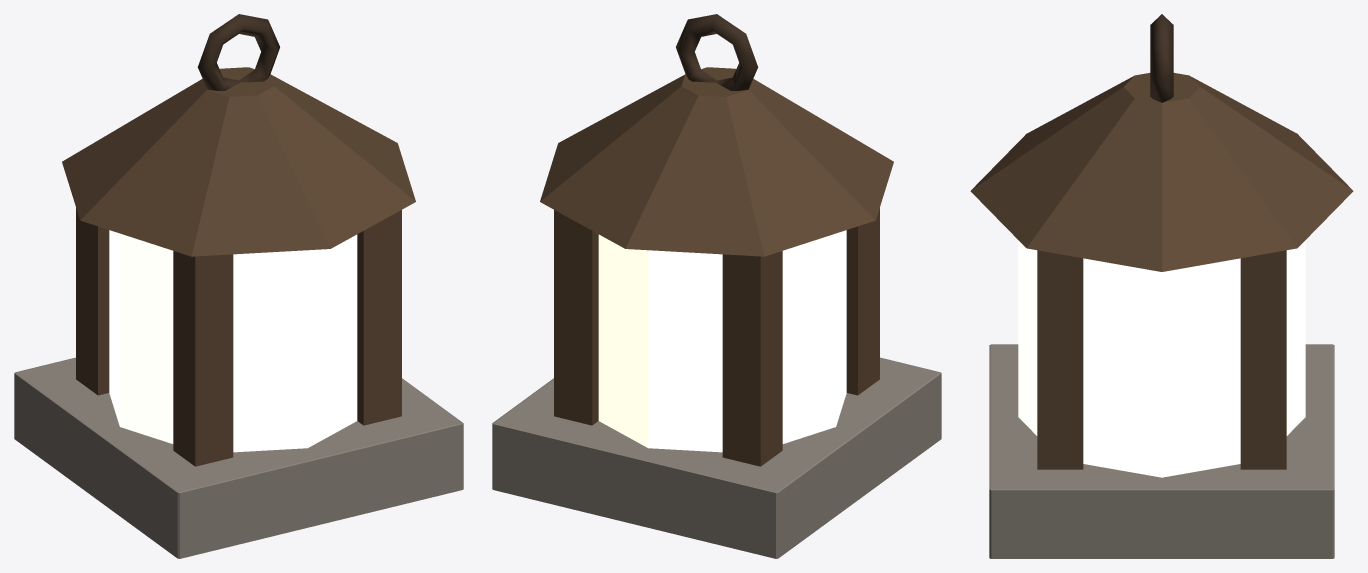
File: prop_candle.glb
3 renders of one model, left to right at view 1: azimuth 30°, elevation 25°; view 2: azimuth 150°, elevation 25°; view 3: azimuth 270°, elevation 25°, orthographic. The views are drawn at different scales.
Visible parts, largest first — view 1: prop_candle; view 2: prop_candle; view 3: prop_candle.
Boxes of the visible parts, x1,y1,x2,y2 form: prop_candle: [14, 14, 463, 558]; prop_candle: [492, 14, 941, 558]; prop_candle: [970, 14, 1353, 558].
Bounding box in the file's own units: 0.2 × 0.271 × 0.2.
